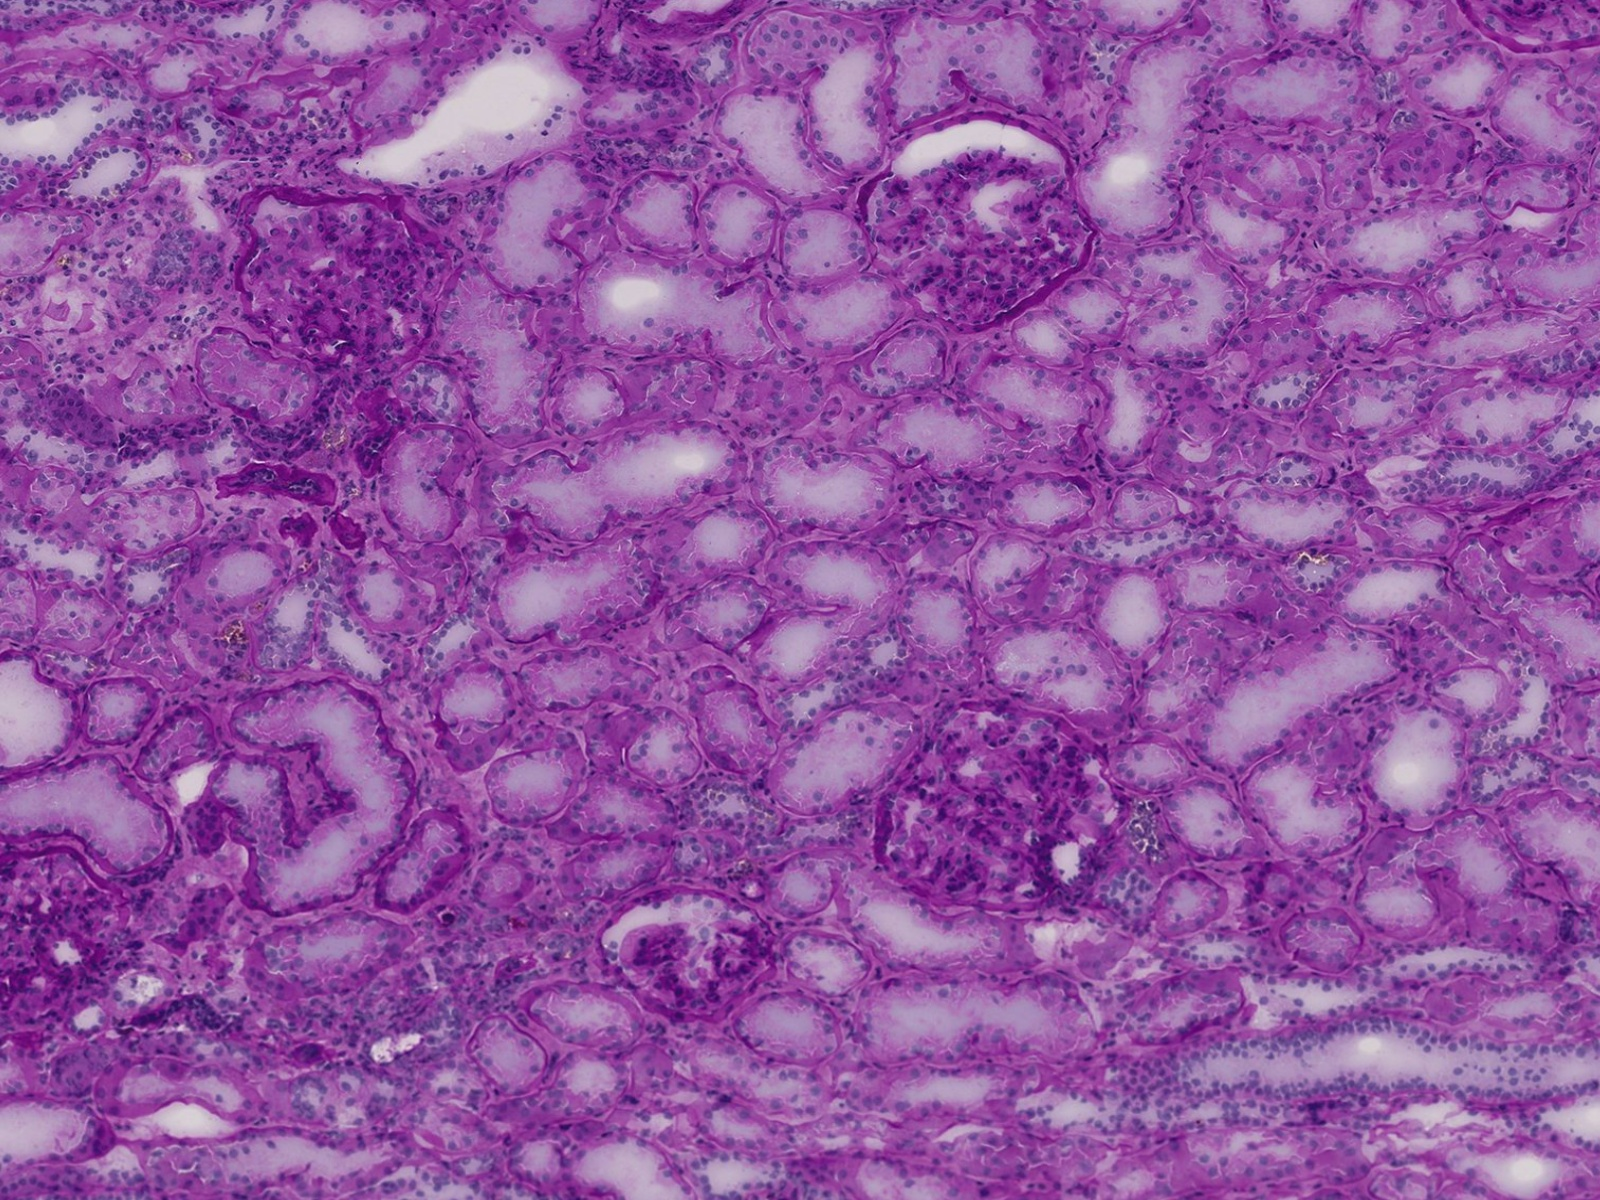Glomeruli: (868, 695, 1128, 926), (854, 113, 1099, 342), (233, 185, 471, 379), (8, 829, 139, 1064), (1460, 3, 1600, 61)
